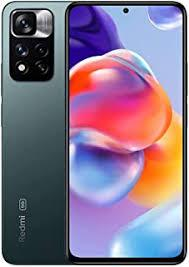Smartphone: (70, 2, 181, 262), (3, 1, 110, 262)
